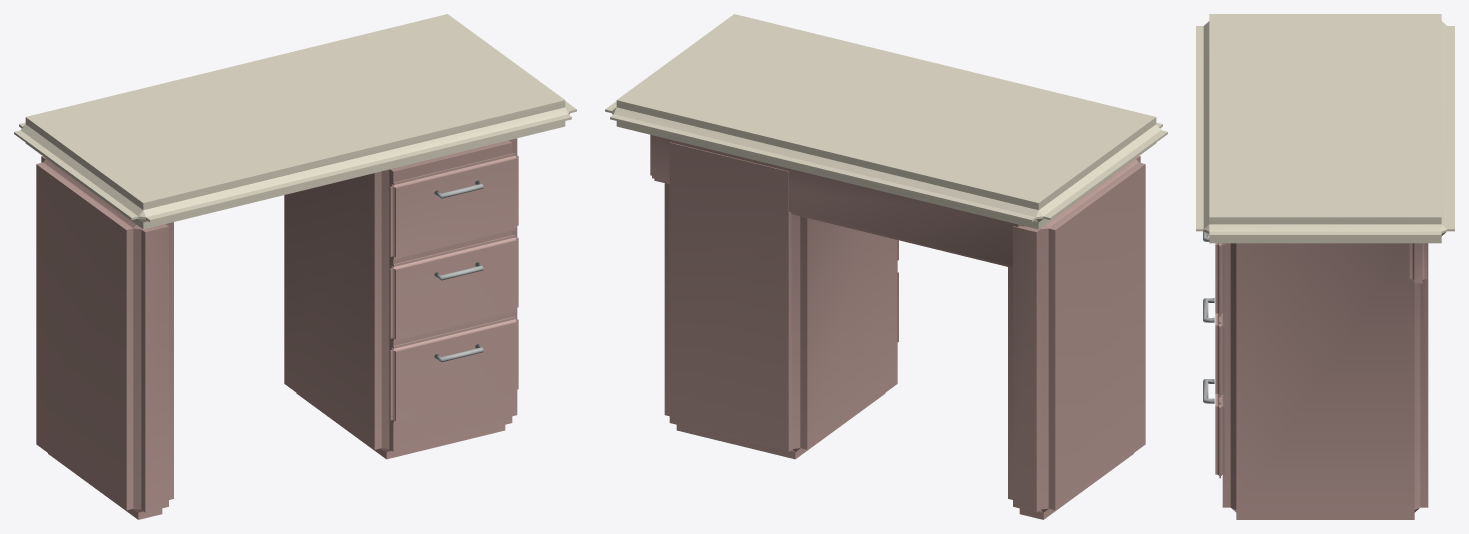
File: nail-workstation.glb
3 renders of one model, left to right at view 1: azimuth 30°, elevation 25°; view 2: azimuth 150°, elevation 25°; view 3: azimuth 270°, elevation 25°, orthographic.
Visible parts, largest first — view 1: Frame; view 2: Frame; view 3: Frame.
Part boxes in pixels (bbox=[...]): Frame: bbox=[14, 14, 576, 519]; Frame: bbox=[605, 14, 1167, 519]; Frame: bbox=[1196, 14, 1454, 519].
Bounding box in the file's own units: 1.31 × 0.925 × 0.668.
